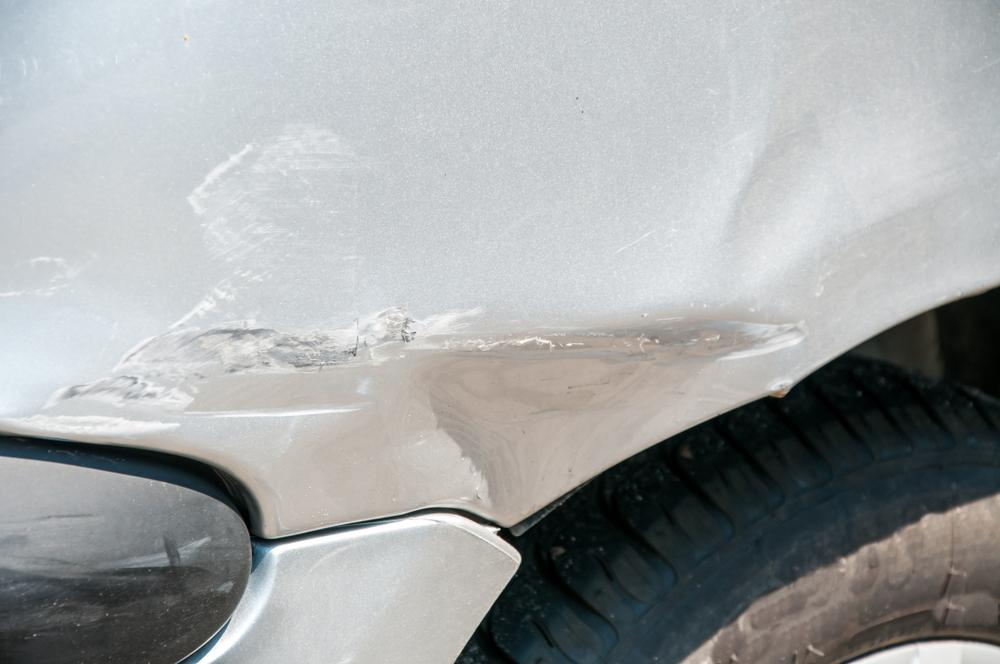dent: (425, 124, 830, 523)
scratch: (22, 118, 431, 437)
